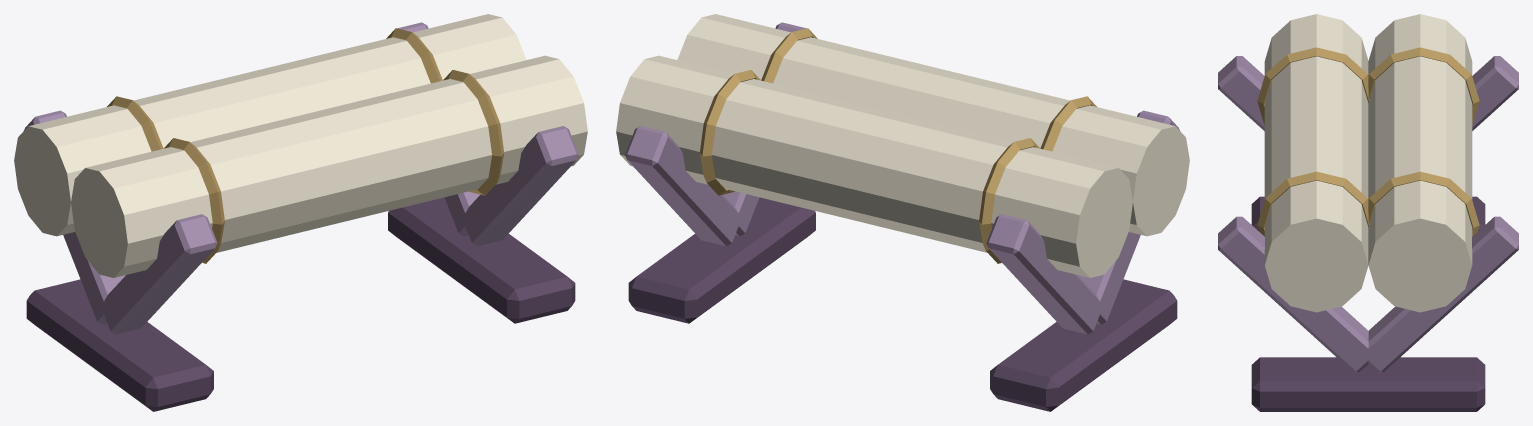
The model's file is 09_Scroll_Cradle.glb.
3 renders of one model, left to right at view 1: azimuth 30°, elevation 25°; view 2: azimuth 150°, elevation 25°; view 3: azimuth 270°, elevation 25°, orthographic. The views are drawn at different scales.
Visible parts, largest first — view 1: 09_Scroll_Cradle__Body; view 2: 09_Scroll_Cradle__Body; view 3: 09_Scroll_Cradle__Body.
Boxes of the visible parts, bbox=[...] form: 09_Scroll_Cradle__Body: bbox=[14, 14, 587, 411]; 09_Scroll_Cradle__Body: bbox=[616, 14, 1189, 411]; 09_Scroll_Cradle__Body: bbox=[1218, 14, 1518, 411].
Bounding box in the file's own units: 1.68 × 0.806 × 1.04.
1 material, 1 textured.
